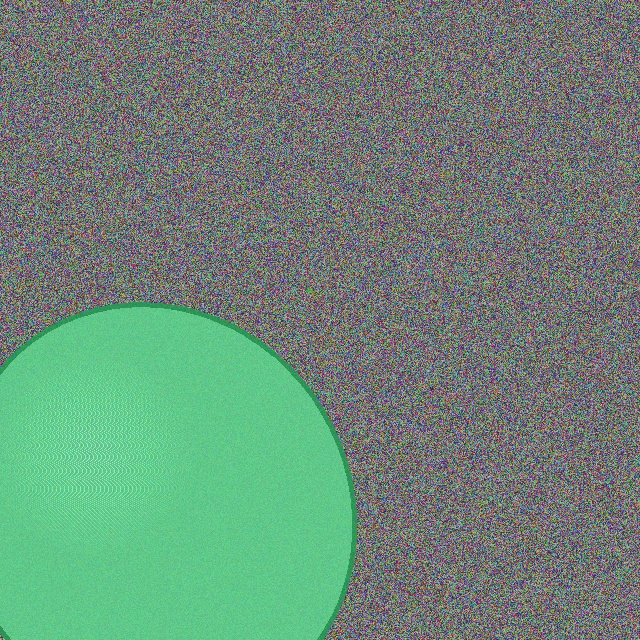lens: (0, 304, 354, 640)
